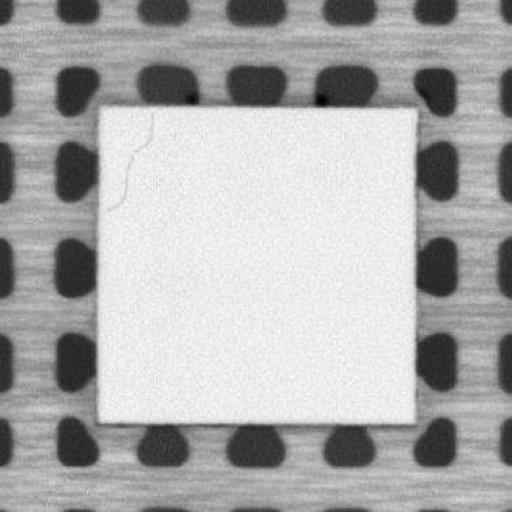DIE_CRACK: (103, 111, 154, 213)
